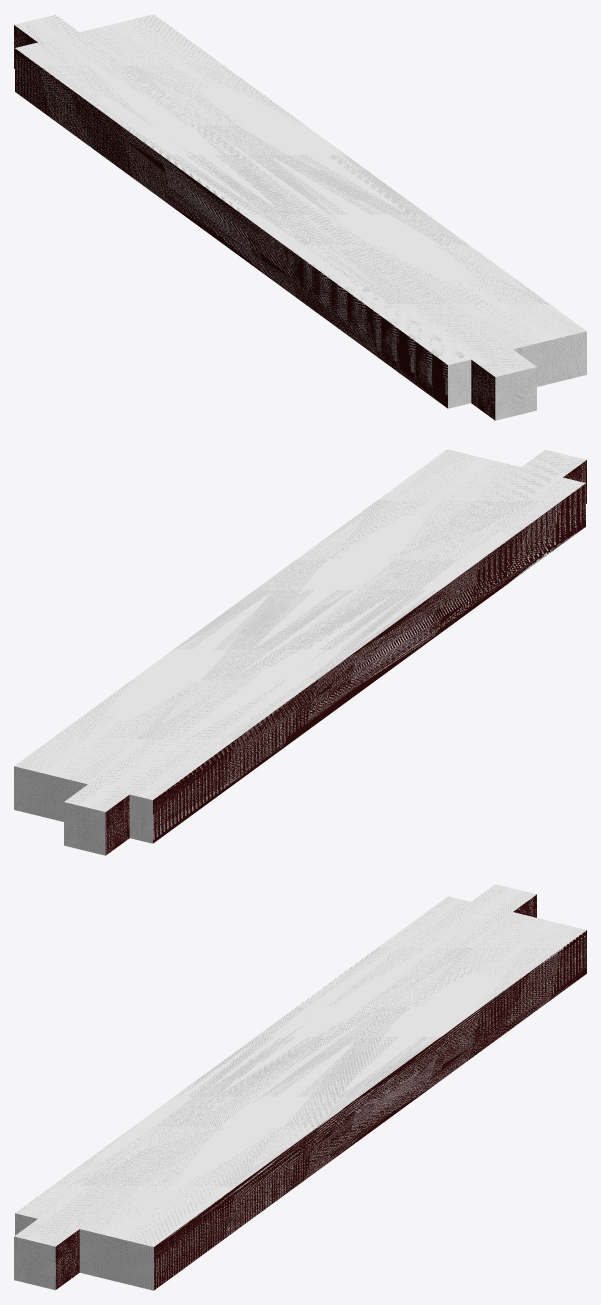
File: original-43.obj
The picture shows the model from 3 angles, top to bottom: view 1: azimuth 30°, elevation 25°; view 2: azimuth 150°, elevation 25°; view 3: azimuth 330°, elevation 25°; orthographic projection.
Parts seen in each view (by area): view 1: Shelf_Breadboard_End2/Shelf_Breadboard_End12/mesh30/mesh30-geome; view 2: Shelf_Breadboard_End2/Shelf_Breadboard_End12/mesh30/mesh30-geome; view 3: Shelf_Breadboard_End2/Shelf_Breadboard_End12/mesh30/mesh30-geome.
Part boxes in pixels (x1,y1,x2,y2): Shelf_Breadboard_End2/Shelf_Breadboard_End12/mesh30/mesh30-geome: [14, 14, 586, 420]; Shelf_Breadboard_End2/Shelf_Breadboard_End12/mesh30/mesh30-geome: [14, 449, 586, 855]; Shelf_Breadboard_End2/Shelf_Breadboard_End12/mesh30/mesh30-geome: [14, 884, 586, 1290].
Size of the model in its own units: 0.0735 by 0.022 by 0.4407.
